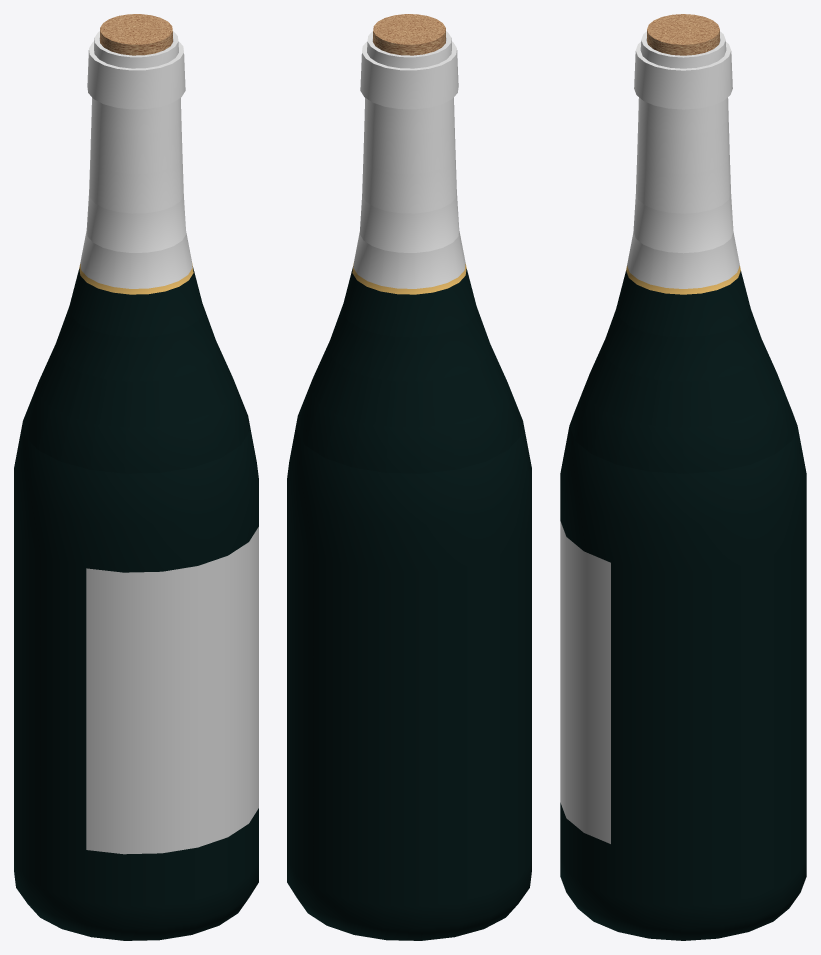
File: obj_no_name_winebottle_283e03.glb
3 views of the same model, side by side, from view 1: azimuth 30°, elevation 25°; view 2: azimuth 150°, elevation 25°; view 3: azimuth 270°, elevation 25° (orthographic).
Parts seen in each view (by area): view 1: obj_no_name_winebottle_283e03; view 2: obj_no_name_winebottle_283e03; view 3: obj_no_name_winebottle_283e03.
Part boxes in pixels (box(x1,y1,x2,y2)): obj_no_name_winebottle_283e03: box(14, 14, 258, 940); obj_no_name_winebottle_283e03: box(287, 14, 531, 940); obj_no_name_winebottle_283e03: box(560, 14, 806, 940).
Size of the model in its own units: 0.0774 by 0.3 by 0.0774.
5 materials, 1 textured.
